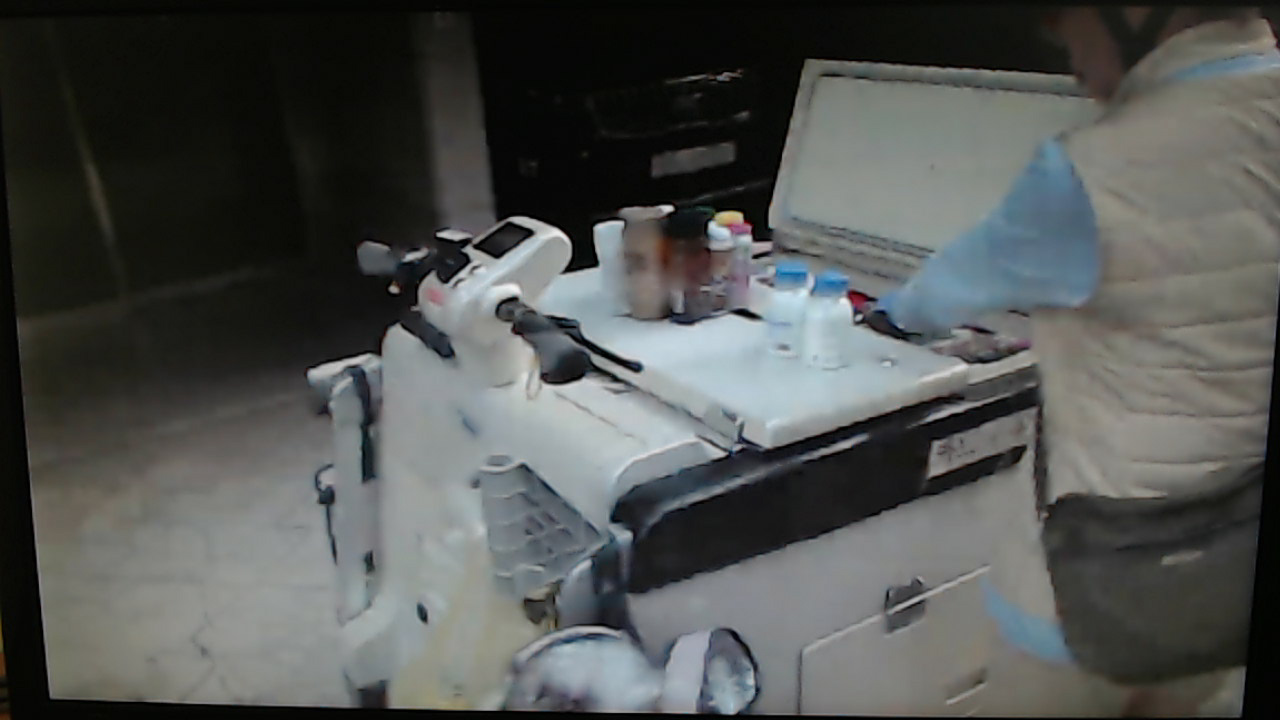Yakurut: (869, 11, 1278, 715)
